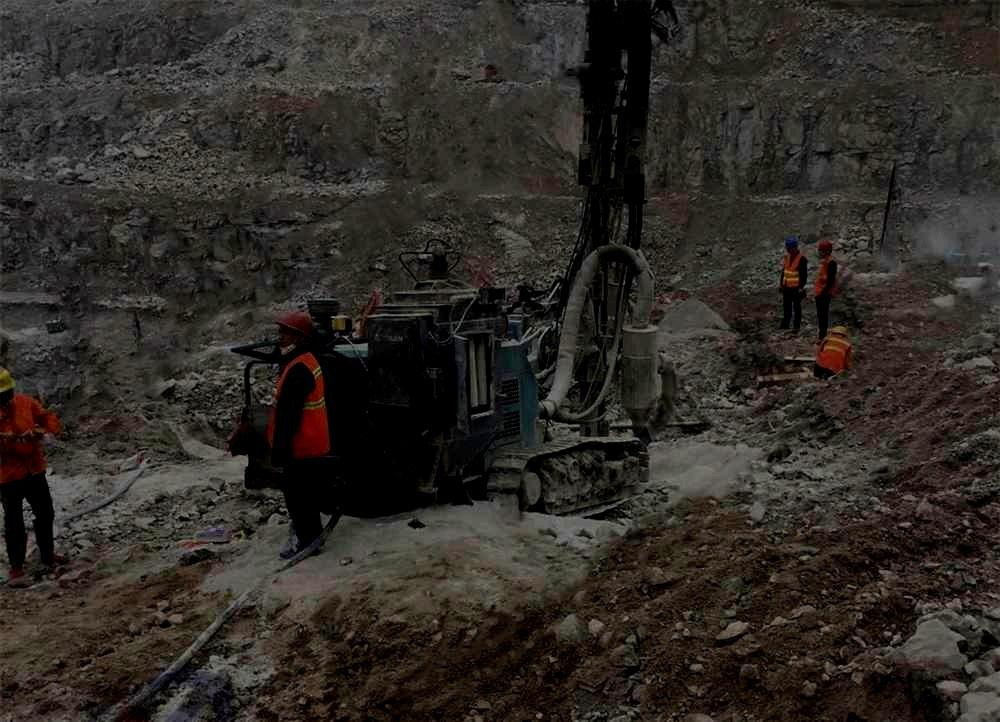helmet: (274, 309, 313, 347), (1, 370, 18, 404), (816, 240, 833, 260), (829, 325, 849, 339), (784, 236, 798, 255)
